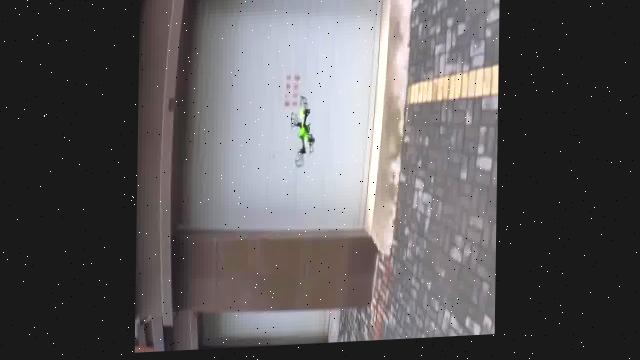drone: (287, 103, 326, 170)
